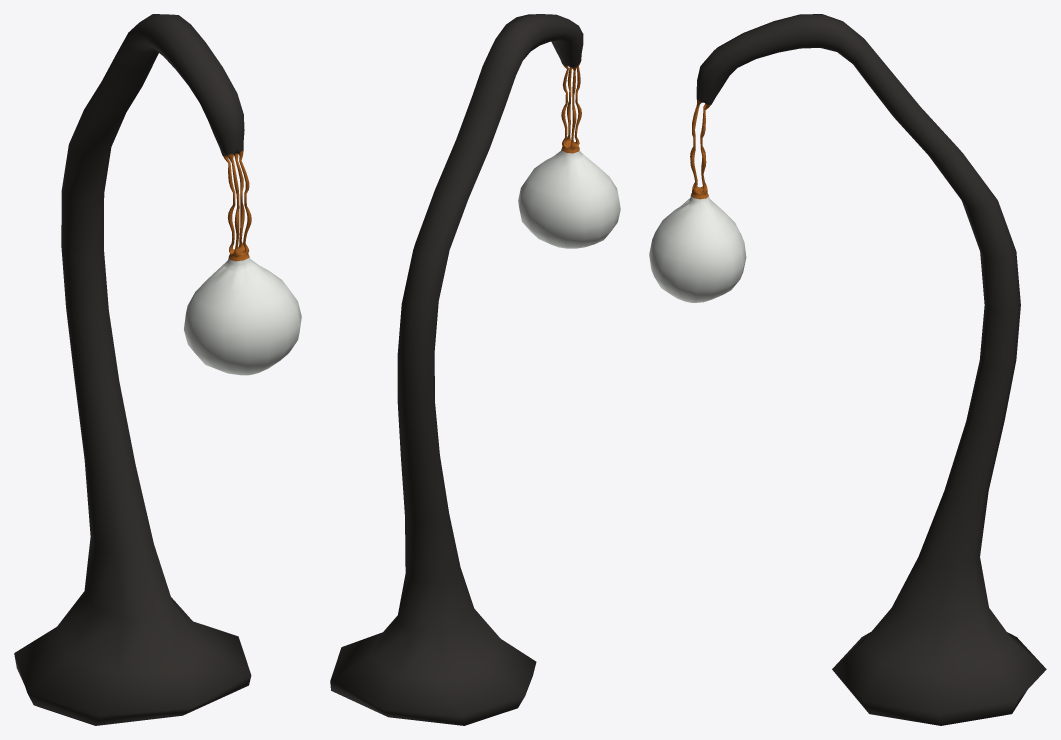
Rendered from Lampost1.fbx.
3 renders of one model, left to right at view 1: azimuth 30°, elevation 25°; view 2: azimuth 150°, elevation 25°; view 3: azimuth 270°, elevation 25°, orthographic. The views are drawn at different scales.
Visible parts, largest first — view 1: Lamp_type1; view 2: Lamp_type1; view 3: Lamp_type1.
Boxes of the visible parts, <box> form: Lamp_type1: <box>14,14,301,725</box>; Lamp_type1: <box>330,14,620,725</box>; Lamp_type1: <box>649,14,1046,725</box>.
Bounding box in the file's own units: 421 × 1383 × 757.
